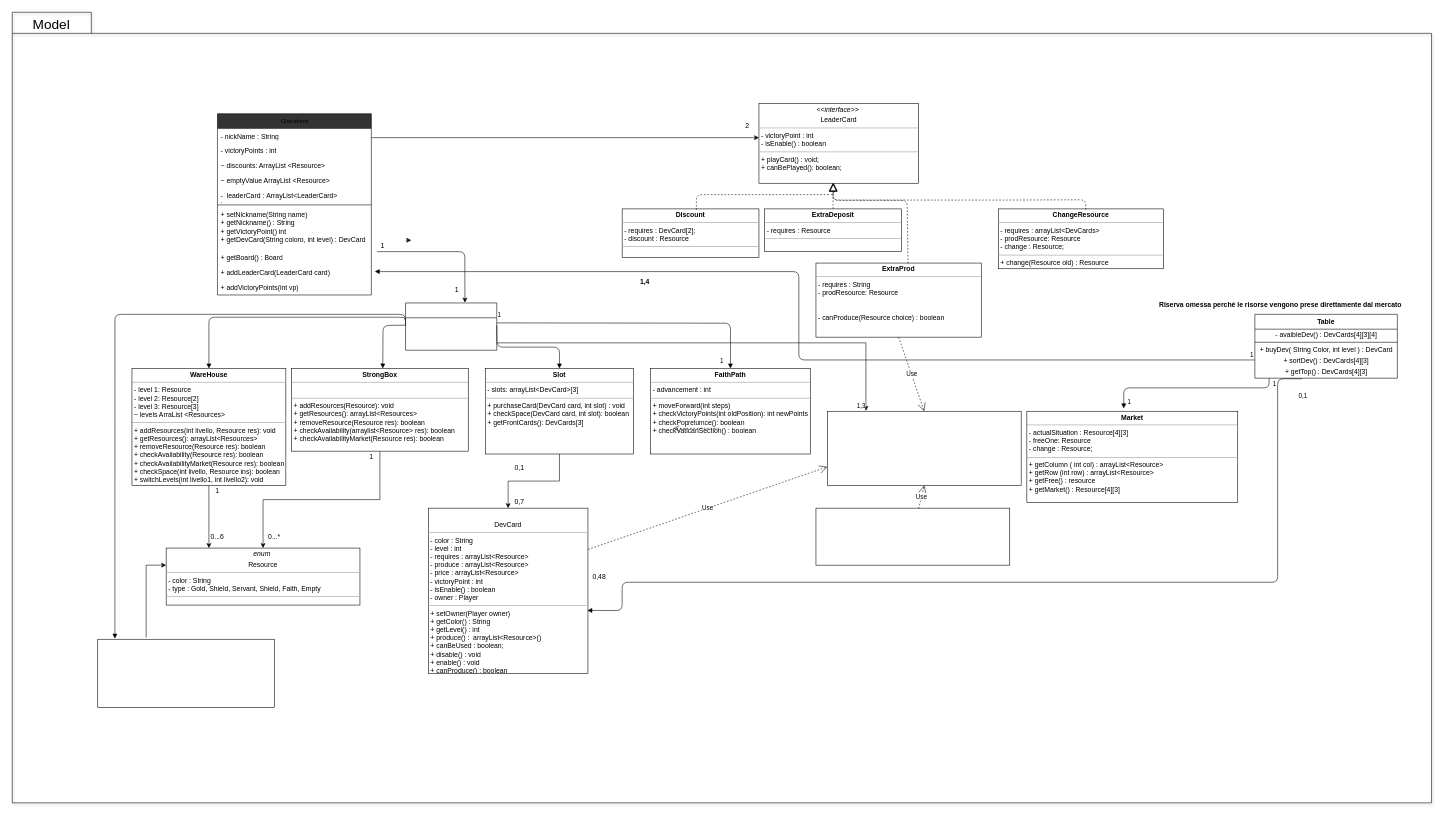
Image size: 1445x817. Some labels were removed from this diagram. The shapes that lost their labels are listed below. From the top down, each one's centre as x and y in pixels, then its label:
At (x=451, y=326): "Board".
At (x=924, y=448): "Interface Producer + produce() : arrayList<Resource>()".
At (x=912, y=536): "BasicDevCard - canBeUsed (Resource res1, Resource res2): boolean;".
At (x=185, y=673): "TempBox + addResources(Resource): void + endTurn() : void".
